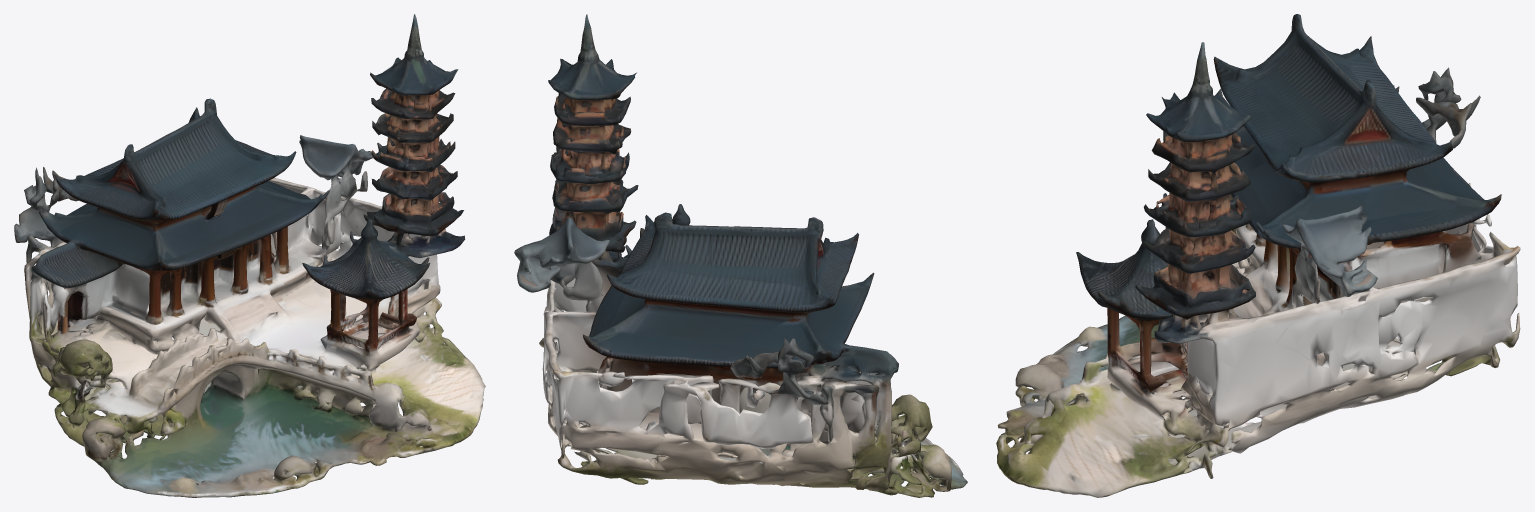
The picture shows the model from 3 angles, left to right: view 1: azimuth 30°, elevation 25°; view 2: azimuth 150°, elevation 25°; view 3: azimuth 270°, elevation 25°; orthographic projection. The views are drawn at different scales.
Parts seen in each view (by area): view 1: material.001; view 2: material.001; view 3: material.001.
Part boxes in pixels (x1,y1,x2,y2): material.001: [14, 14, 485, 497]; material.001: [514, 14, 967, 497]; material.001: [996, 14, 1520, 497].
Size of the model in its own units: 0.8277 by 0.808 by 0.8126.
Materials: 1 (1 with a texture image).
